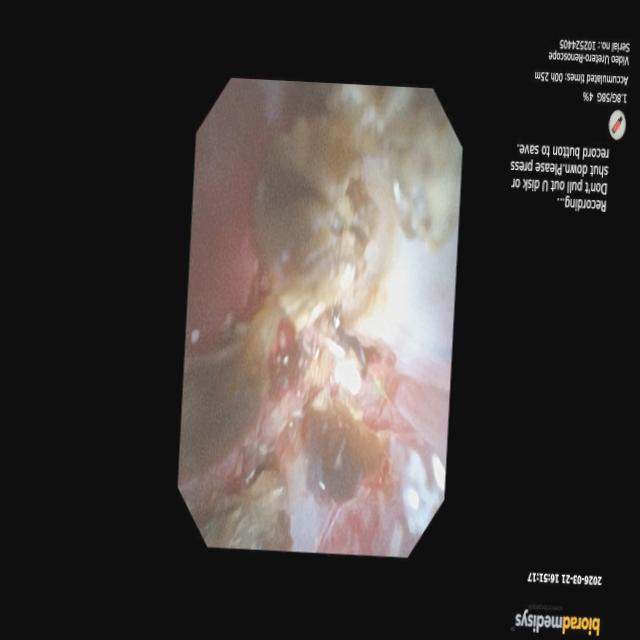laser-fibre: (384, 374, 449, 449)
laser_dot: (334, 359, 362, 395)
stone-new: (253, 117, 377, 329), (333, 85, 462, 252), (179, 310, 279, 488), (305, 406, 387, 504), (198, 471, 293, 551)
